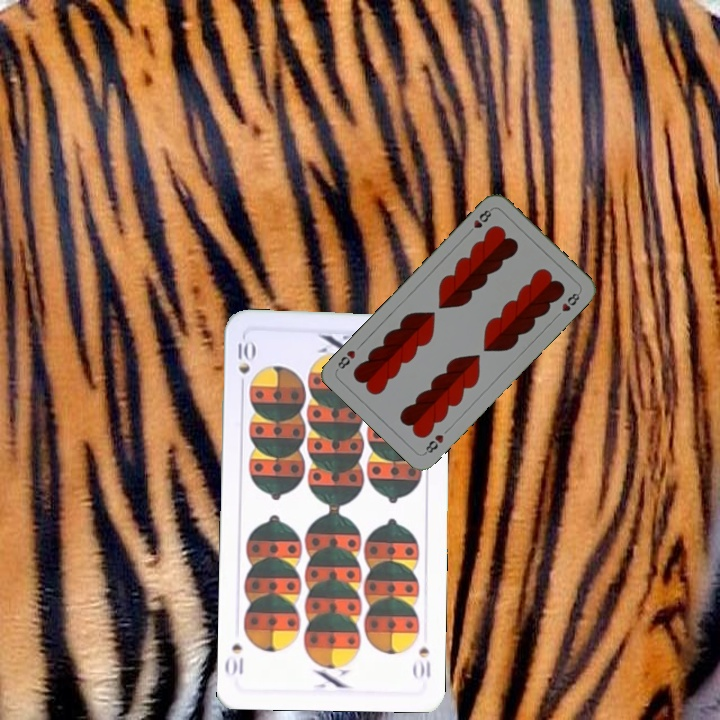H8: (463, 205, 495, 237), (420, 430, 446, 457)
S10: (233, 337, 256, 376), (410, 642, 433, 681)
